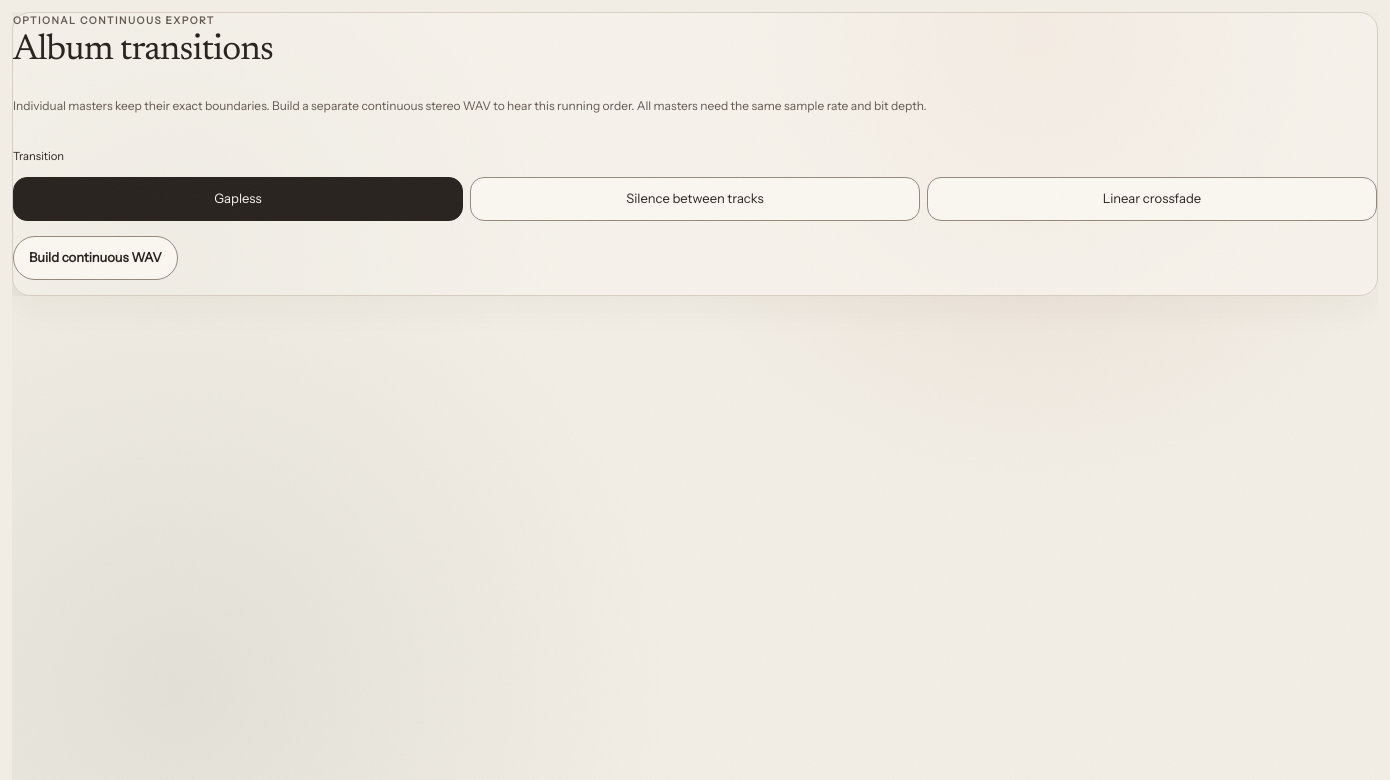
Test case: continuous album ownership › cancels pending storage reads without creating a sequence
Click the button "Build continuous WAV": (95, 258) [13, 236, 178, 280]
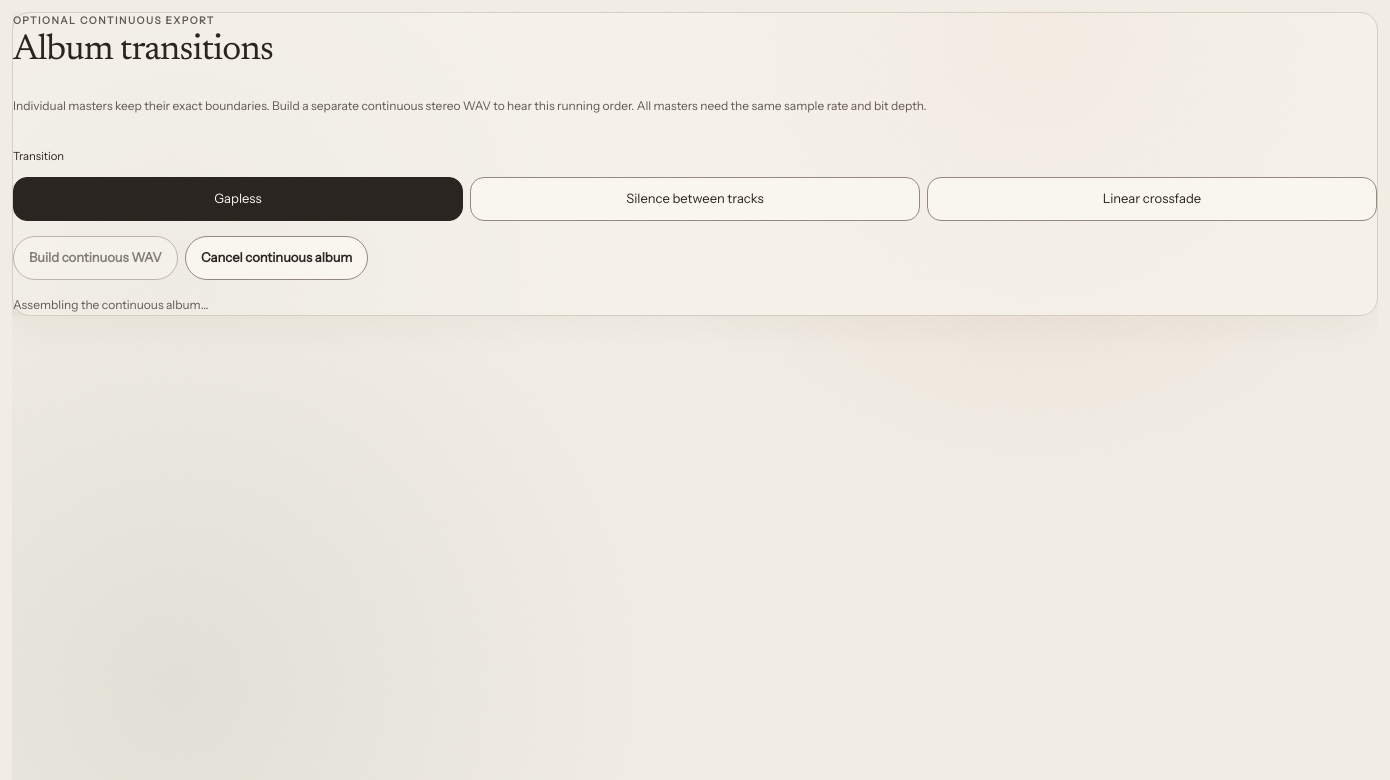
Click the button "Cancel continuous album": (277, 258) [185, 236, 368, 280]
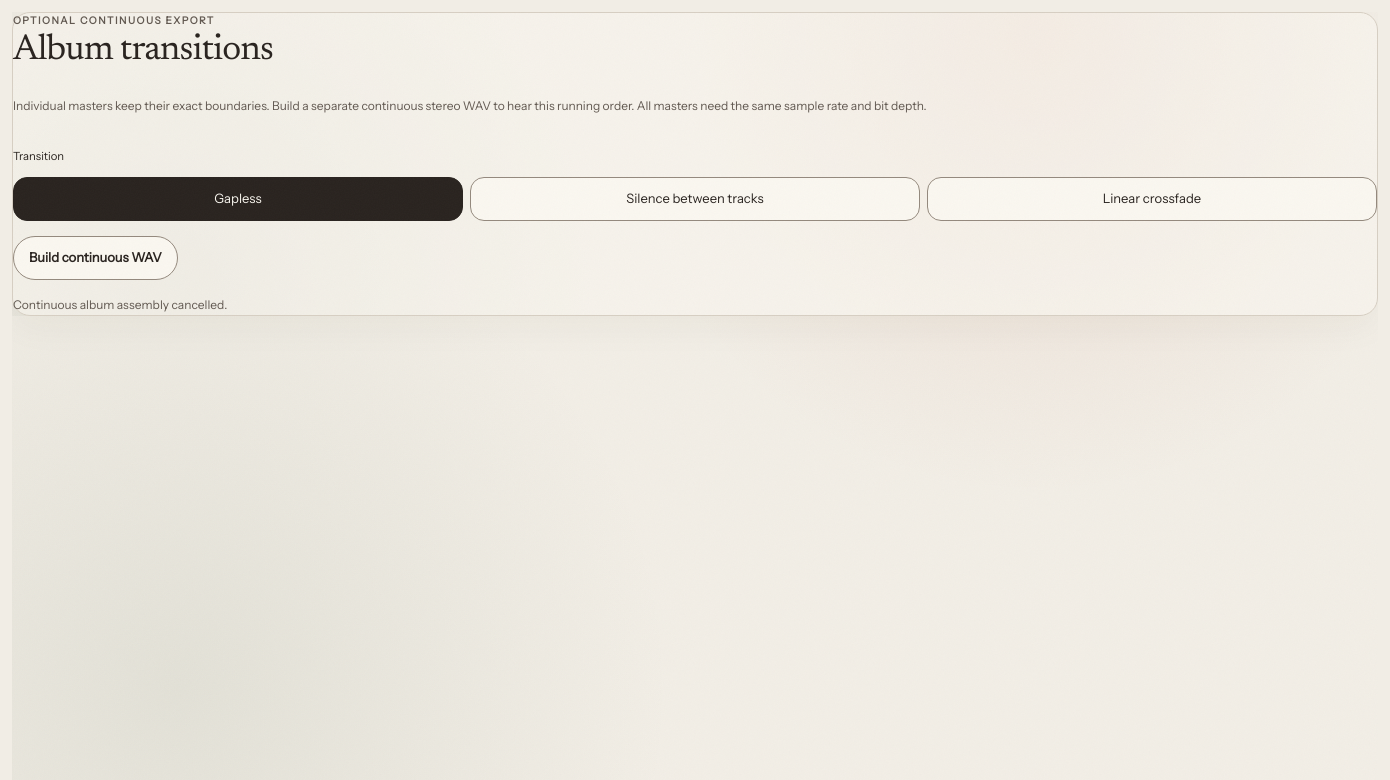
Expected: the message shows "cancelled", [13, 297, 227, 312]
